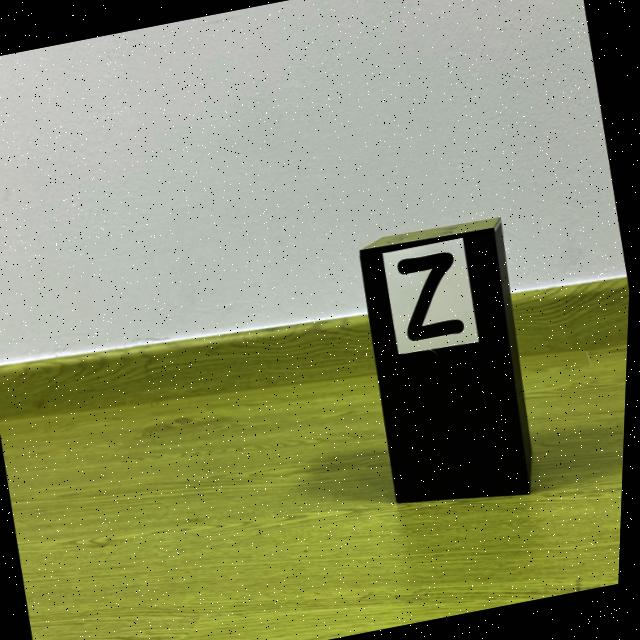Z: (400, 252, 466, 341)
